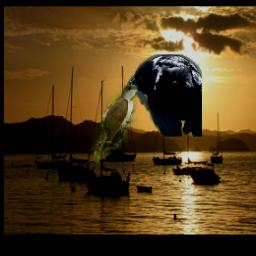Crow: (125, 54, 202, 136)
Cuckoo: (91, 85, 138, 170)
